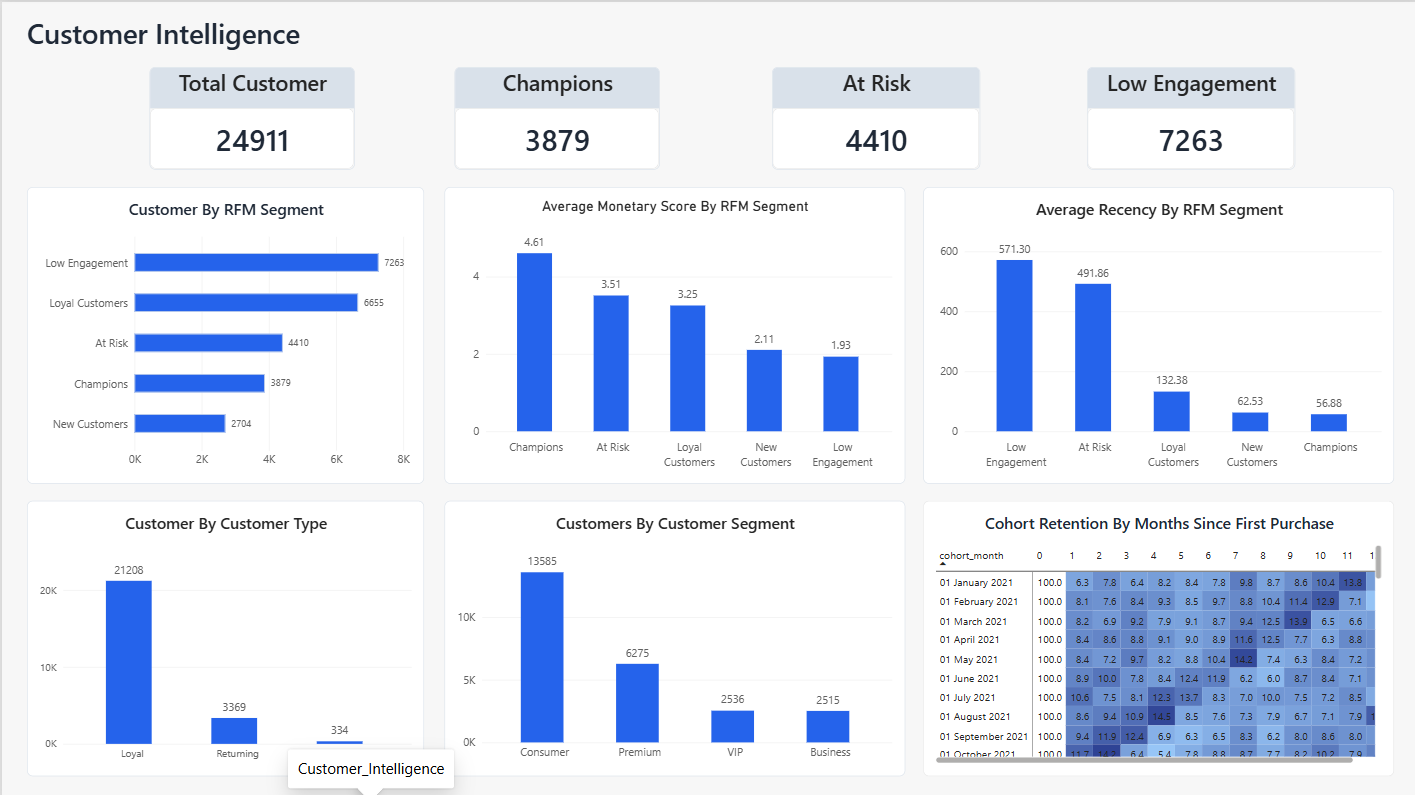

This screenshot's page, from the dashboard's own definition file:
{"tool":"powerbi","page":{"name":"Customer_Intelligence","canvas":[1920,1080],"ordinal":1},"visuals":[{"type":"textbox","box":[10,0,280,280],"z":0},{"type":"textbox","box":[34.7,16.3,808.2,57.1],"z":1000},{"type":"cardVisual","title":"Total Customer","fields":{"Data":["Count(ecommerce_customer_value_intelligence sales.customer_id)"]},"box":[200,87.8,278.6,139.3],"z":2000},{"type":"clusteredBarChart","title":"Customer By RFM Segment","fields":{"Category":["customer_rfm.rfm_segment"],"Y":["Count(customer_rfm.customer_id)"]},"box":[34.7,251,538.8,402],"z":3000},{"type":"clusteredColumnChart","title":"Average Monetary Score By RFM Segment","fields":{"Category":["customer_rfm.rfm_segment"],"Y":["Avg(customer_rfm.M_score)"]},"box":[600,251,624.5,402],"z":4000},{"type":"clusteredColumnChart","title":"Average Recency By RFM Segment","fields":{"Category":["customer_rfm.rfm_segment"],"Y":["Avg(customer_rfm.recency)"]},"box":[1249,251,638.8,402],"z":5000},{"type":"clusteredColumnChart","title":"Customer By Customer Type","fields":{"Category":["ecommerce_customer_value_intelligence sales.customer_type"],"Y":["Count(ecommerce_customer_value_intelligence sales.customer_id)"]},"box":[34.7,675.5,538.8,373.5],"z":6000},{"type":"clusteredColumnChart","title":"Customers By Customer Segment","fields":{"Category":["ecommerce_customer_value_intelligence sales.customer_segment"],"Y":["Count(ecommerce_customer_value_intelligence sales.customer_id)"]},"box":[600,675.5,624.5,373.5],"z":7000},{"type":"cardVisual","title":"Champions","fields":{"Data":["Count(ecommerce_customer_value_intelligence sales.customer_id)"]},"box":[614.3,87.8,278.6,139.3],"z":8000},{"type":"cardVisual","title":"Low Engagement","fields":{"Data":["Count(ecommerce_customer_value_intelligence sales.customer_id)"]},"box":[1471.4,87.8,282.1,139.3],"z":9000},{"type":"cardVisual","title":"At Risk","fields":{"Data":["Count(ecommerce_customer_value_intelligence sales.customer_id)"]},"box":[1044.9,87.8,282.1,139.3],"z":10000},{"type":"pivotTable","title":"Cohort Retention By Months Since First Purchase","fields":{"Rows":["customer_cohort_retention.cohort_month"],"Values":["Avg(customer_cohort_retention.0)","Avg(customer_cohort_retention.1)","Avg(customer_cohort_retention.2)","Avg(customer_cohort_retention.3)","Avg(customer_cohort_retention.4)","Avg(customer_cohort_retention.5)","Avg(customer_cohort_retention.6)","Avg(customer_cohort_retention.7)","Avg(customer_cohort_retention.8)","Avg(customer_cohort_retention.9)","Avg(customer_cohort_retention.10)","Avg(customer_cohort_retention.11)"]},"box":[1249,675.5,638.8,373.5],"z":11000}]}

Visuals, with their boxes on the page's 1920x1080 design canvas (x1, y1, x2, y2). These are canvas units, not pixel positions in the 1415x795 screenshot, which may show the page scaled, cropped or inside an application window:
textbox: (left=10, top=0, right=290, bottom=280)
textbox: (left=35, top=16, right=843, bottom=73)
"Total Customer" cardVisual: (left=200, top=88, right=479, bottom=227)
"Customer By RFM Segment" clusteredBarChart: (left=35, top=251, right=574, bottom=653)
"Average Monetary Score By RFM Segment" clusteredColumnChart: (left=600, top=251, right=1224, bottom=653)
"Average Recency By RFM Segment" clusteredColumnChart: (left=1249, top=251, right=1888, bottom=653)
"Customer By Customer Type" clusteredColumnChart: (left=35, top=676, right=574, bottom=1049)
"Customers By Customer Segment" clusteredColumnChart: (left=600, top=676, right=1224, bottom=1049)
"Champions" cardVisual: (left=614, top=88, right=893, bottom=227)
"Low Engagement" cardVisual: (left=1471, top=88, right=1754, bottom=227)
"At Risk" cardVisual: (left=1045, top=88, right=1327, bottom=227)
"Cohort Retention By Months Since First Purchase" pivotTable: (left=1249, top=676, right=1888, bottom=1049)
